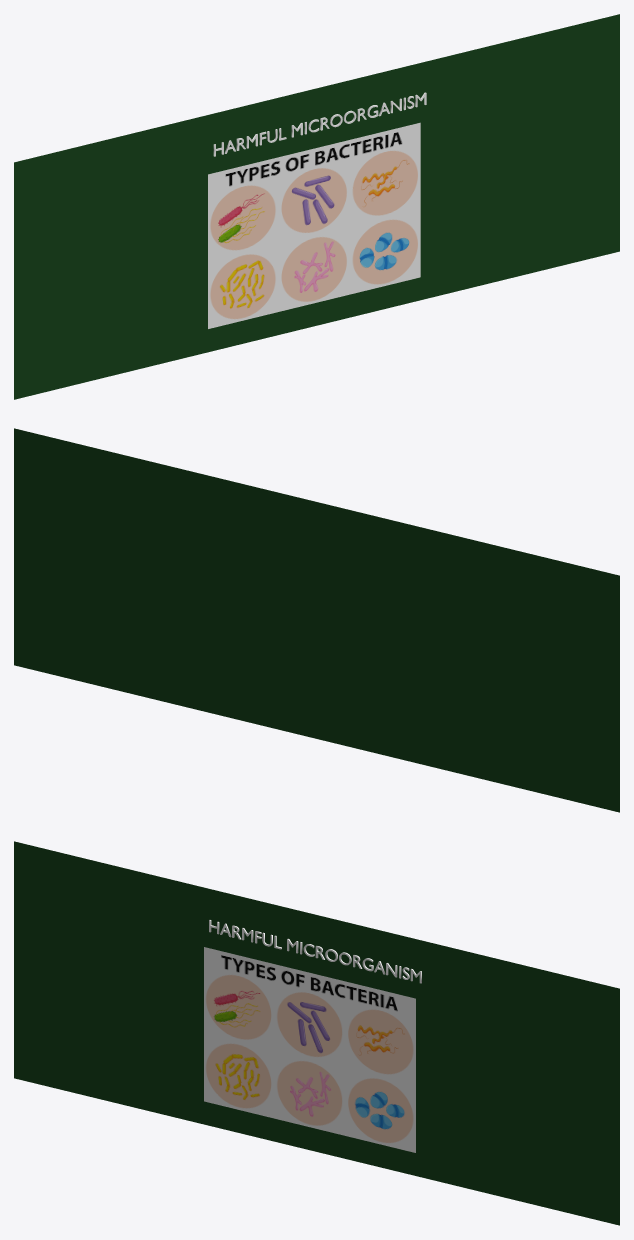
File: bacteria.gltf
3 renders of one model, top to bottom at view 1: azimuth 30°, elevation 25°; view 2: azimuth 150°, elevation 25°; view 3: azimuth 330°, elevation 25°, orthographic.
Parts seen in each view (by area): view 1: Plane.013, Plane, Text.008; view 2: Plane.013; view 3: Plane.013, Plane, Text.008.
Boxes of the visible parts, left/top/right/bottom form: Plane.013: left=14, top=14, right=619, bottom=399; Plane: left=208, top=122, right=420, bottom=328; Text.008: left=213, top=92, right=426, bottom=156; Plane.013: left=14, top=428, right=619, bottom=812; Plane.013: left=14, top=841, right=619, bottom=1225; Plane: left=204, top=947, right=415, bottom=1152; Text.008: left=209, top=920, right=421, bottom=983.
Size of the model in its own units: 15.94 by 5.96 by 0.1403.
3 materials, 1 textured.
